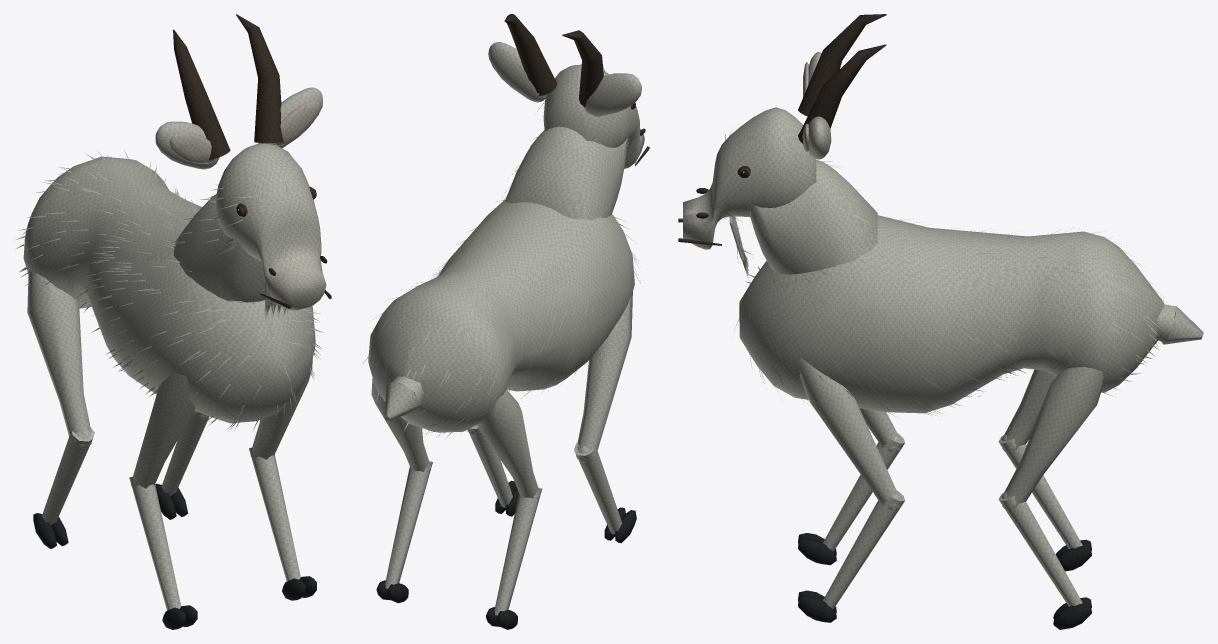
The model's file is mountain-goat.glb.
The picture shows the model from 3 angles, left to right: view 1: azimuth 30°, elevation 25°; view 2: azimuth 150°, elevation 25°; view 3: azimuth 270°, elevation 25°; orthographic projection. The views are drawn at different scales.
Parts seen in each view (by area): view 1: mountain-goat__torso.001, mountain-goat__head_and_neck.002, mountain-goat__upper_BL.001, mountain-goat__upper_FL.001, mountain-goat__fur_torso.001, mountain-goat__lower_FL.001, mountain-goat__lower_FR.001, mountain-goat__lower_BL.001, mountain-goat__lower_BR.001, mountain-goat__upper_FR.001; view 2: mountain-goat__torso.001, mountain-goat__head_and_neck.002, mountain-goat__upper_FL.001, mountain-goat__upper_BL.001, mountain-goat__lower_BR.001, mountain-goat__lower_BL.001, mountain-goat__lower_FL.001, mountain-goat__fur_torso.001, mountain-goat__lower_FR.001, mountain-goat__upper_BR.001, mountain-goat__tail_surface_1.002; view 3: mountain-goat__torso.001, mountain-goat__head_and_neck.002, mountain-goat__upper_BR.001, mountain-goat__upper_FR.001, mountain-goat__fur_torso.001, mountain-goat__lower_FR.001, mountain-goat__lower_BR.001, mountain-goat__lower_FL.001, mountain-goat__lower_BL.001, mountain-goat__upper_BL.001, mountain-goat__upper_FL.001, mountain-goat__tail_surface_1.002.
Boxes of the visible parts, box(x1,y1,x2,y2) form: mountain-goat__torso.001: box(23, 156, 315, 423); mountain-goat__head_and_neck.002: box(155, 14, 331, 323); mountain-goat__upper_BL.001: box(27, 270, 91, 448); mountain-goat__upper_FL.001: box(131, 373, 195, 488); mountain-goat__fur_torso.001: box(16, 150, 323, 430); mountain-goat__lower_FL.001: box(129, 476, 197, 629); mountain-goat__lower_FR.001: box(249, 447, 316, 600); mountain-goat__lower_BL.001: box(33, 427, 94, 548); mountain-goat__lower_BR.001: box(155, 411, 209, 519); mountain-goat__upper_FR.001: box(250, 359, 312, 459); mountain-goat__torso.001: box(368, 200, 634, 432); mountain-goat__head_and_neck.002: box(488, 14, 649, 220); mountain-goat__upper_FL.001: box(576, 292, 632, 462); mountain-goat__upper_BL.001: box(477, 389, 540, 499); mountain-goat__lower_BR.001: box(376, 461, 432, 603); mountain-goat__lower_BL.001: box(486, 487, 541, 629); mountain-goat__lower_FL.001: box(574, 442, 636, 543); mountain-goat__fur_torso.001: box(362, 192, 640, 438); mountain-goat__lower_FR.001: box(468, 426, 518, 516); mountain-goat__upper_BR.001: box(371, 378, 431, 472); mountain-goat__tail_surface_1.002: box(384, 383, 419, 420); mountain-goat__torso.001: box(739, 215, 1164, 413); mountain-goat__head_and_neck.002: box(678, 14, 886, 278); mountain-goat__upper_BR.001: box(1001, 366, 1103, 510); mountain-goat__upper_FR.001: box(799, 357, 902, 510); mountain-goat__fur_torso.001: box(736, 210, 1166, 418); mountain-goat__lower_FR.001: box(798, 491, 904, 622); mountain-goat__lower_BR.001: box(998, 492, 1091, 629); mountain-goat__lower_FL.001: box(798, 433, 904, 565); mountain-goat__lower_BL.001: box(998, 435, 1091, 571); mountain-goat__upper_BL.001: box(1001, 369, 1055, 453); mountain-goat__upper_FL.001: box(859, 408, 901, 452); mountain-goat__tail_surface_1.002: box(1162, 306, 1203, 344).
Bounding box in the file's own units: 0.6592 × 2.1 × 1.76.
2 materials, 1 textured.
